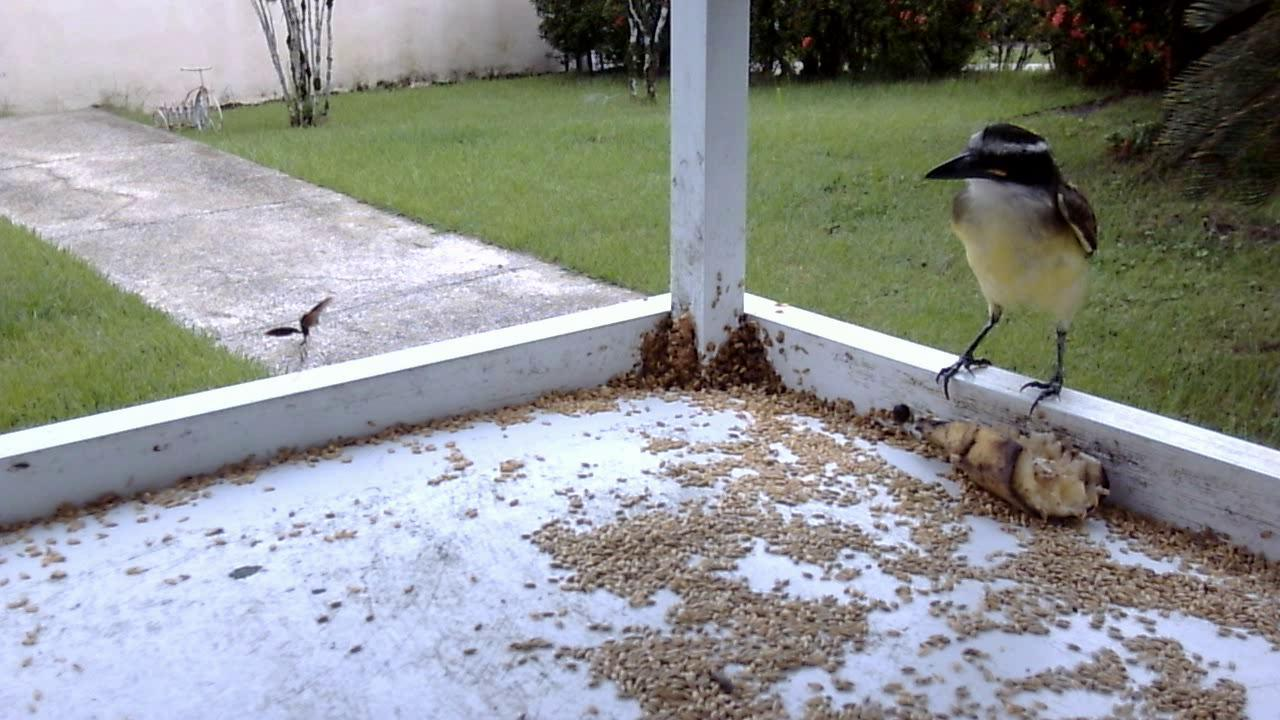bem_te_vi: (912, 116, 1109, 428)
